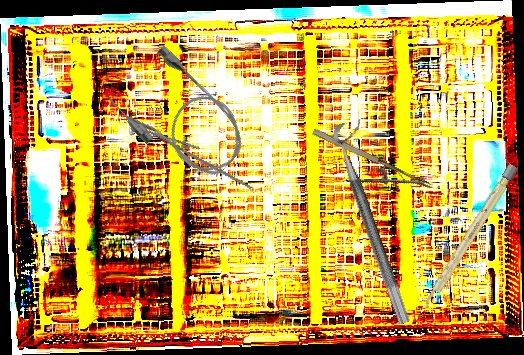Cannula: (100, 39, 259, 195)
Fixation Ring: (329, 117, 428, 326)
Needle Holder: (302, 125, 434, 212), (141, 121, 261, 190)
Scalpel Handle: (421, 163, 519, 310)
